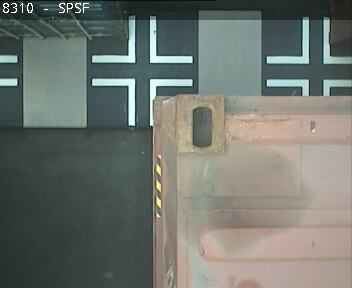groundmarker_1: (92, 17, 192, 62), (91, 79, 191, 124), (265, 17, 351, 65), (267, 78, 352, 97)
